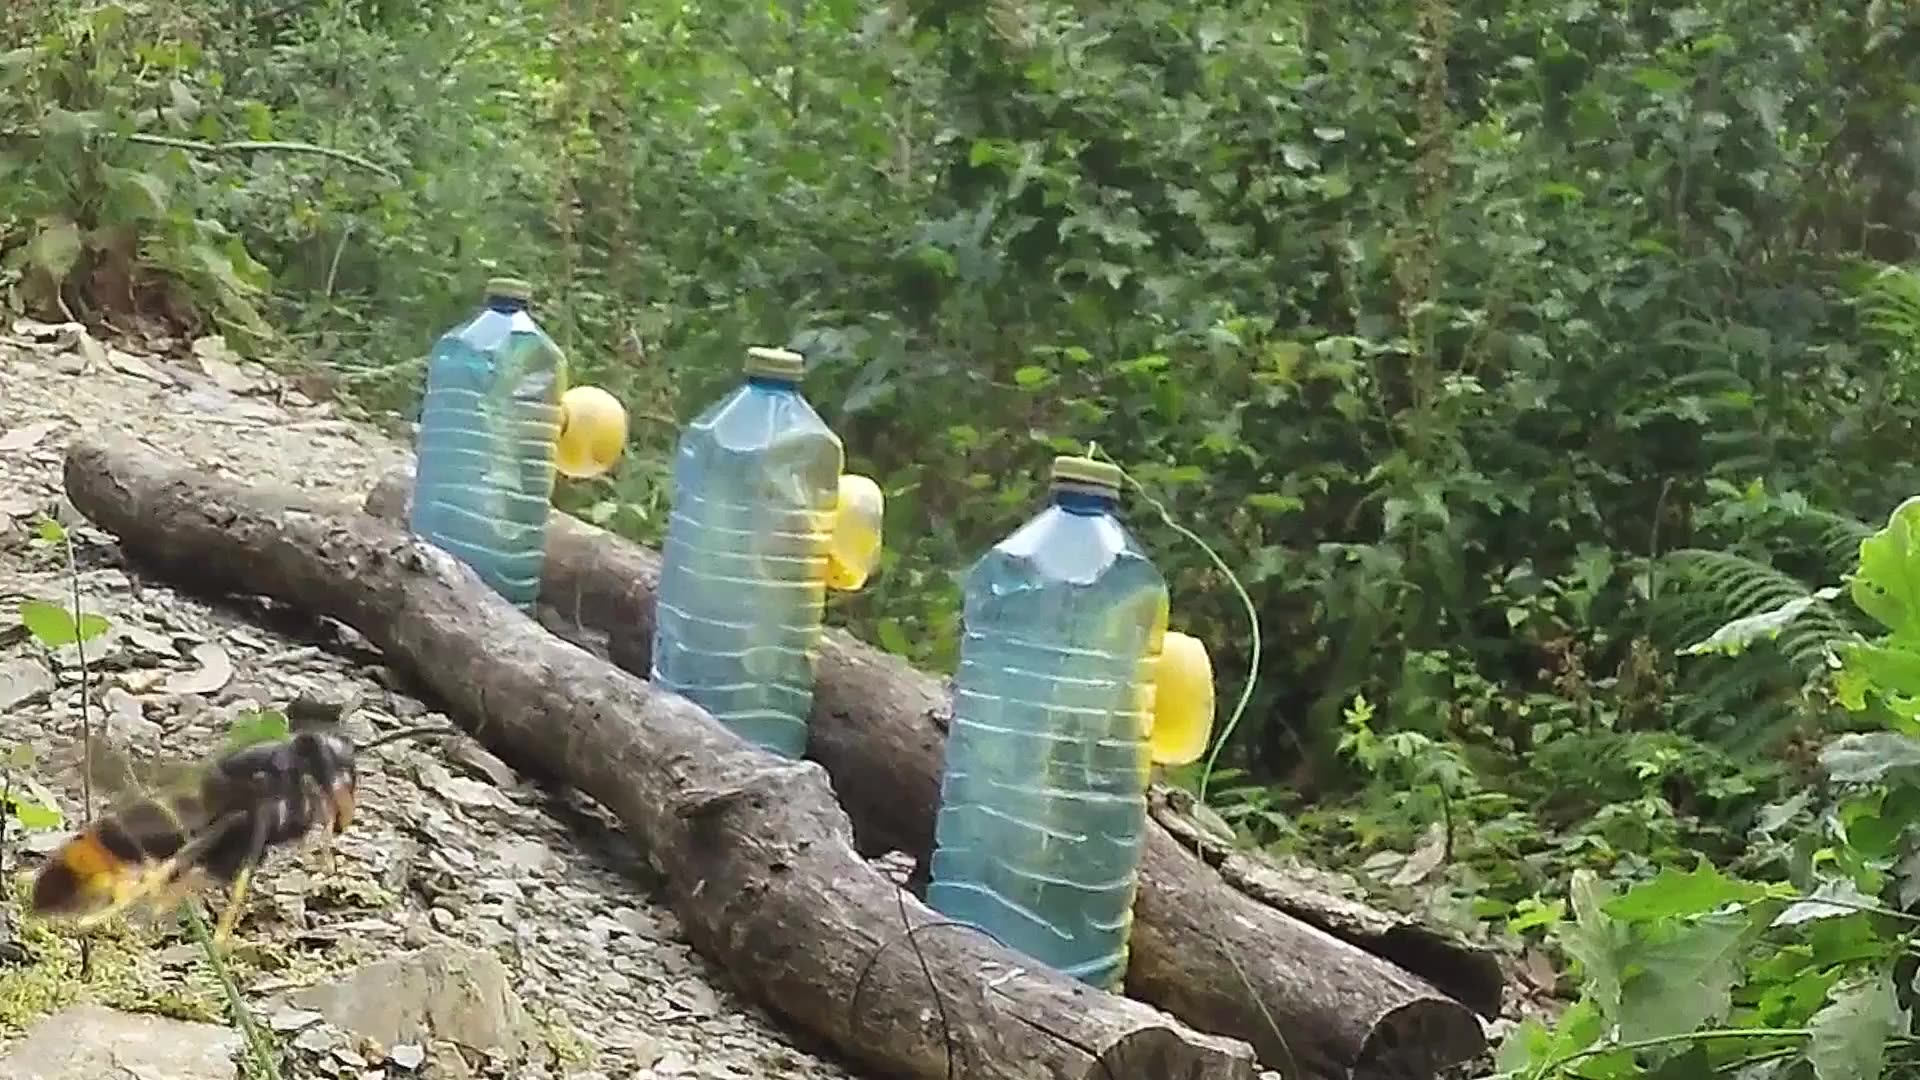hornet: (21, 708, 372, 945)
